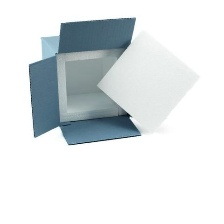foam_box: (92, 25, 203, 138), (51, 46, 147, 126)
